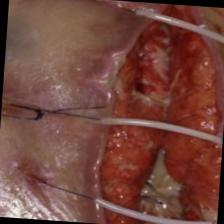orthopaedic-wounds: (54, 0, 224, 224)
